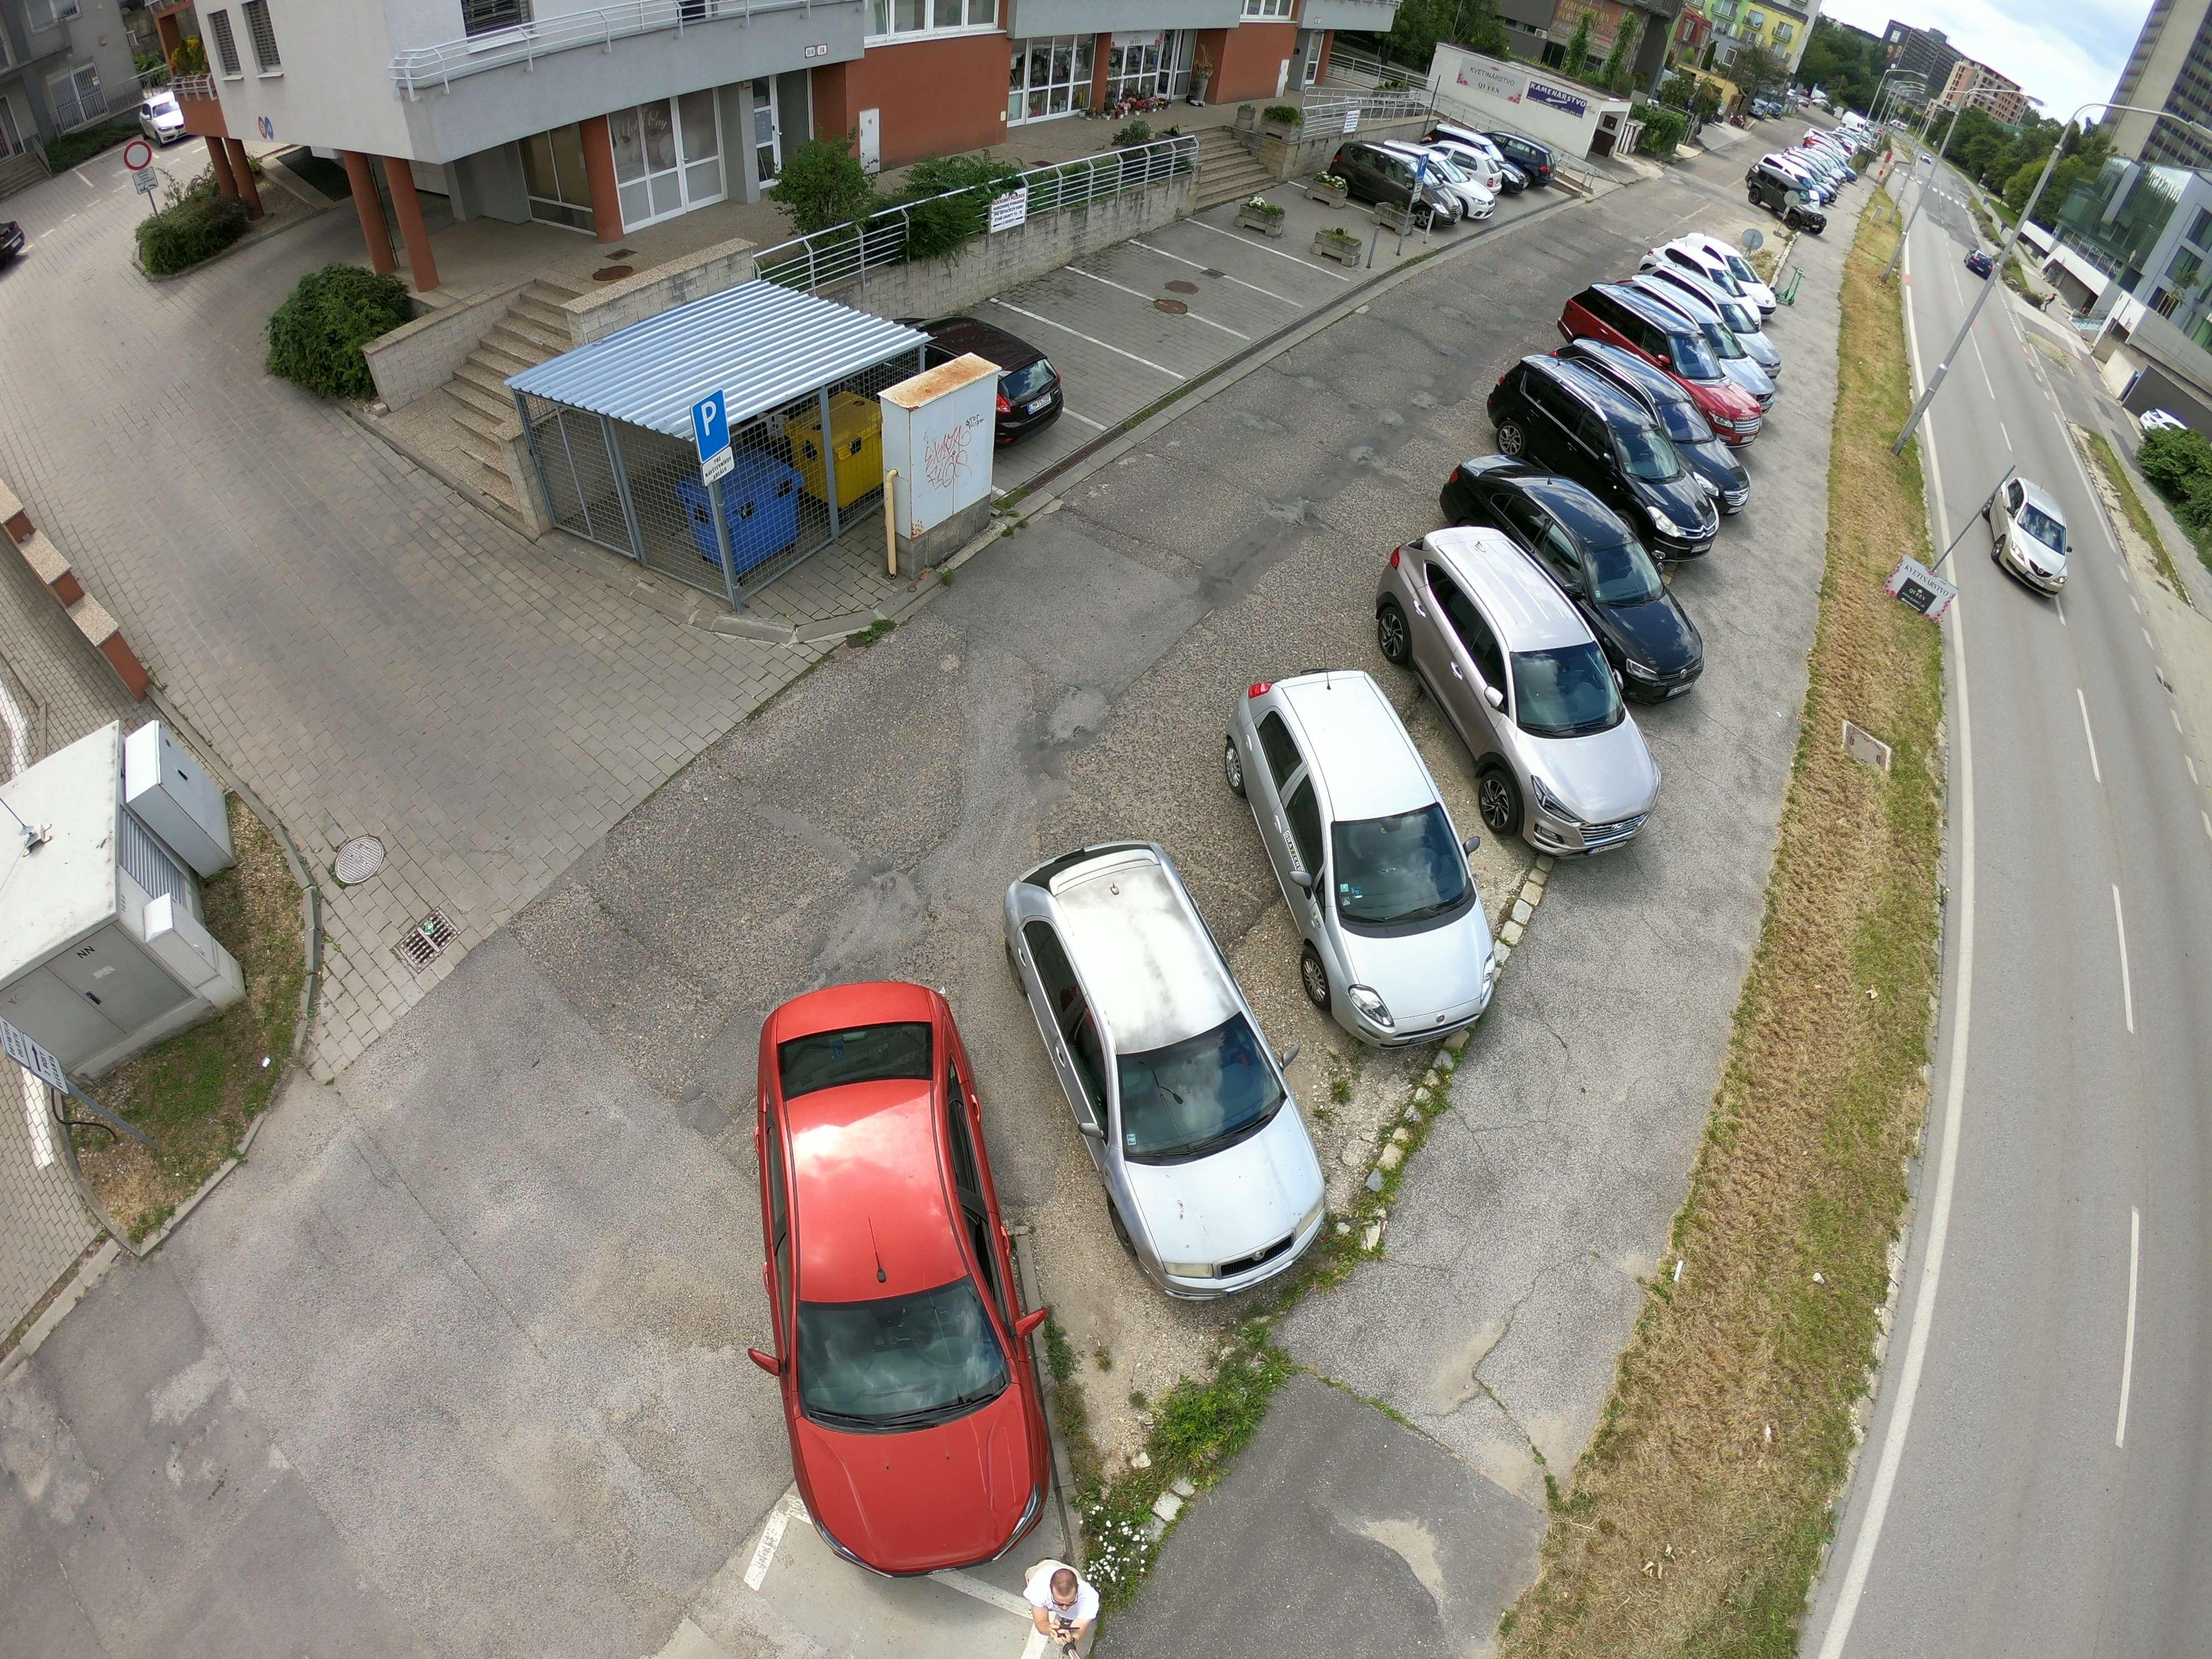empty: (759, 985, 1082, 1572), (981, 821, 1353, 1302), (1228, 660, 1529, 1040), (1385, 500, 1679, 852), (1494, 352, 1743, 514), (880, 310, 1073, 437), (1557, 291, 1771, 401), (1602, 256, 1763, 354), (1320, 145, 1470, 220), (1977, 488, 2083, 591), (1639, 240, 1756, 312), (1421, 132, 1536, 197)
occupied: (1031, 335, 1130, 396), (1130, 263, 1224, 305), (1076, 296, 1160, 340), (1211, 240, 1271, 282)
